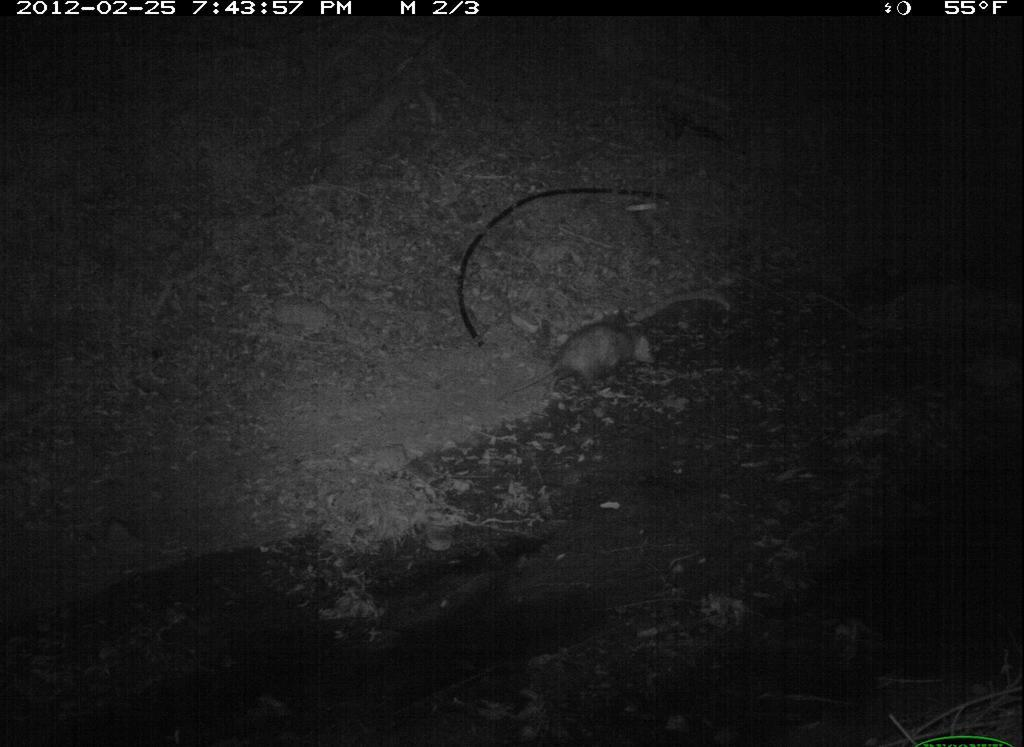opossum: (501, 310, 673, 419)
